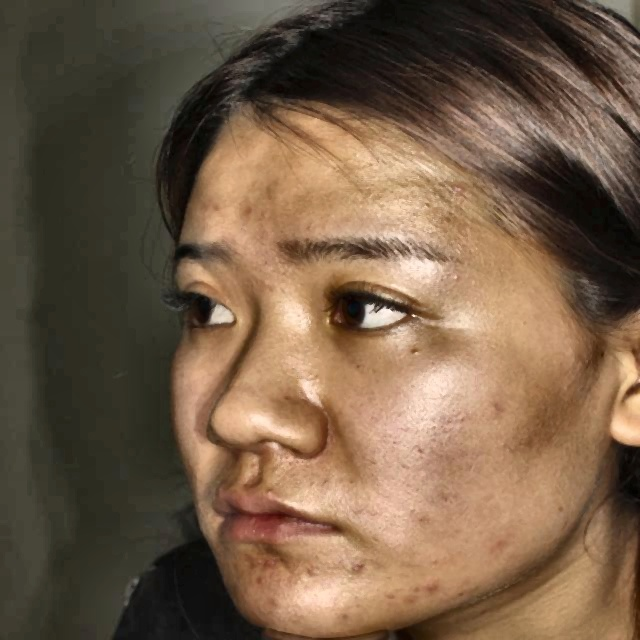comedone: (383, 580, 421, 614), (489, 522, 522, 550), (421, 570, 446, 606)
